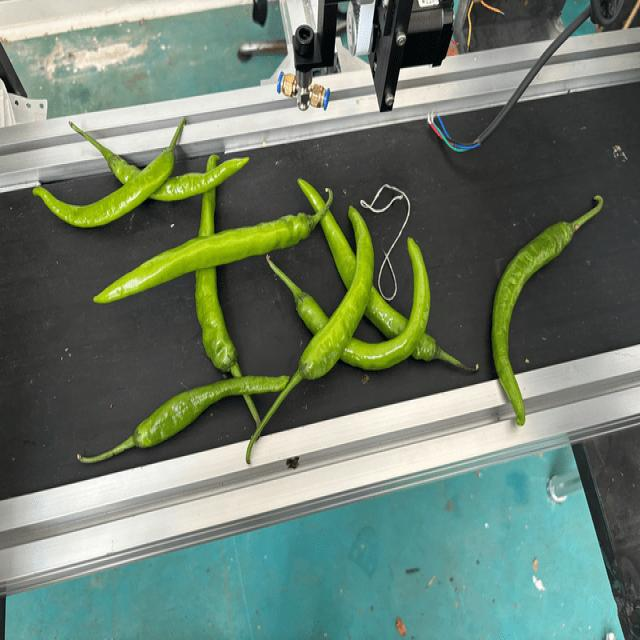chili: (294, 175, 442, 363), (88, 213, 317, 306), (294, 234, 432, 371), (490, 220, 575, 433), (297, 202, 377, 381), (128, 375, 292, 449), (30, 147, 177, 229), (193, 151, 241, 375), (107, 152, 251, 202)
